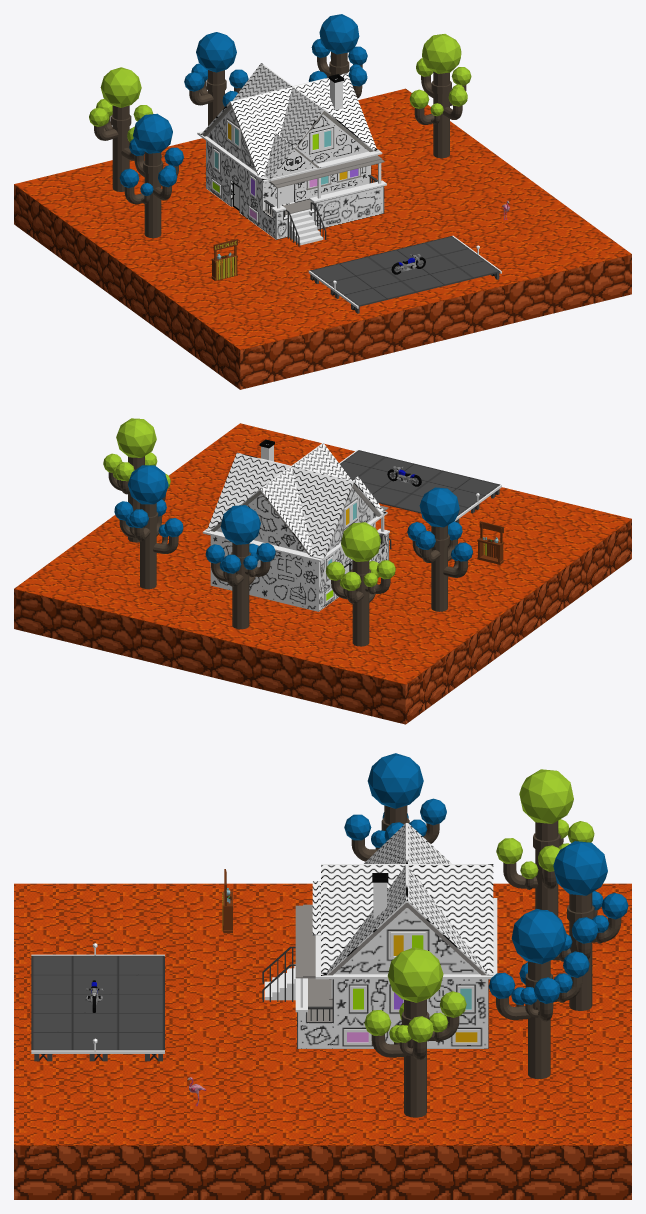
3 renders of one model, top to bottom at view 1: azimuth 30°, elevation 25°; view 2: azimuth 150°, elevation 25°; view 3: azimuth 270°, elevation 25°, orthographic. The views are drawn at different scales.
Parts seen in each view (by area): view 1: Cube.001, Cube.879, OBJRANDOM_LEMONADE_STAND; view 2: Cube.001, Cube.879, OBJRANDOM_LEMONADE_STAND; view 3: Cube.001, Cube.879.
Boxes of the visible parts, bbox=[...] form: Cube.001: bbox=[14, 14, 631, 389]; Cube.879: bbox=[197, 63, 386, 246]; OBJRANDOM_LEMONADE_STAND: bbox=[211, 239, 237, 280]; Cube.001: bbox=[14, 418, 631, 724]; Cube.879: bbox=[202, 439, 391, 611]; OBJRANDOM_LEMONADE_STAND: bbox=[477, 521, 503, 564]; Cube.001: bbox=[14, 753, 631, 1199]; Cube.879: bbox=[262, 823, 497, 1048].
Size of the model in its own units: 4000 by 1663 by 4000.
39 materials, 11 textured.
